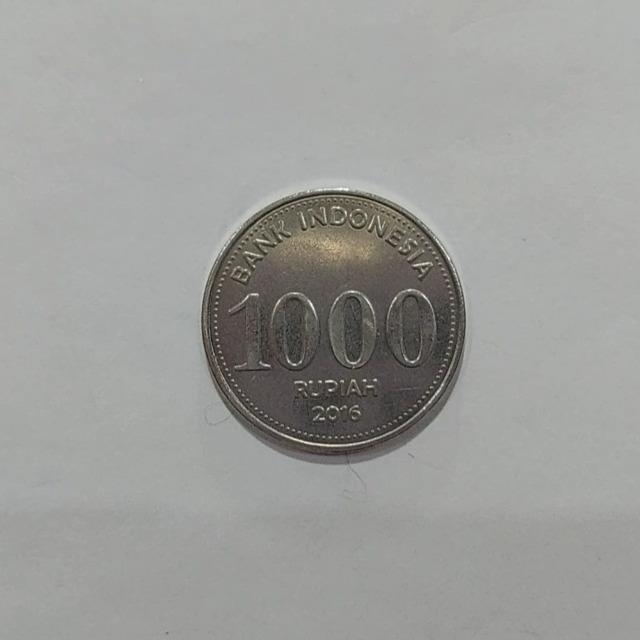Rp100: (198, 185, 467, 464)
